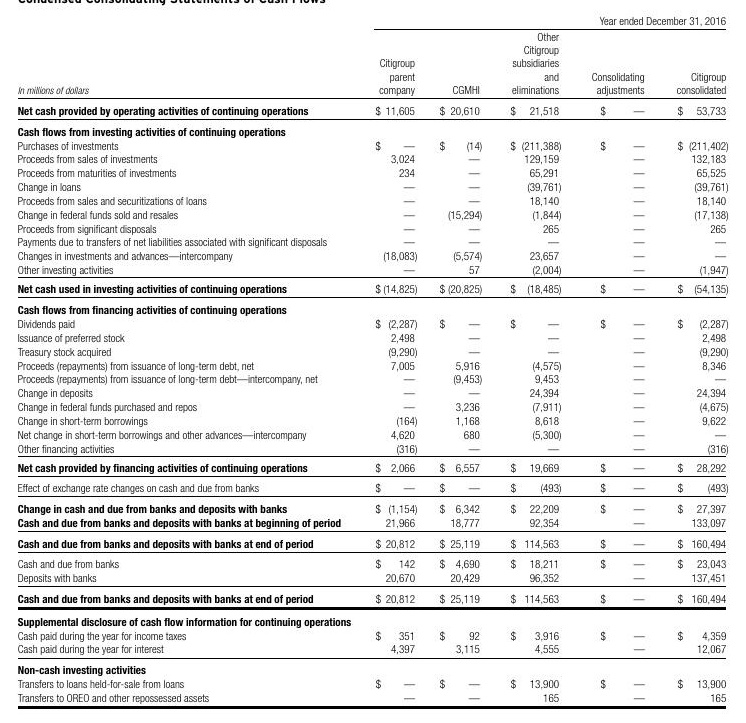table: (0, 0, 746, 723)
